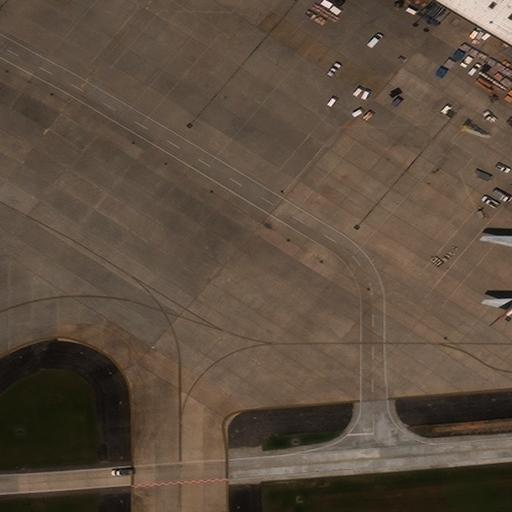Large Civil Transport: (482, 224, 511, 317)
